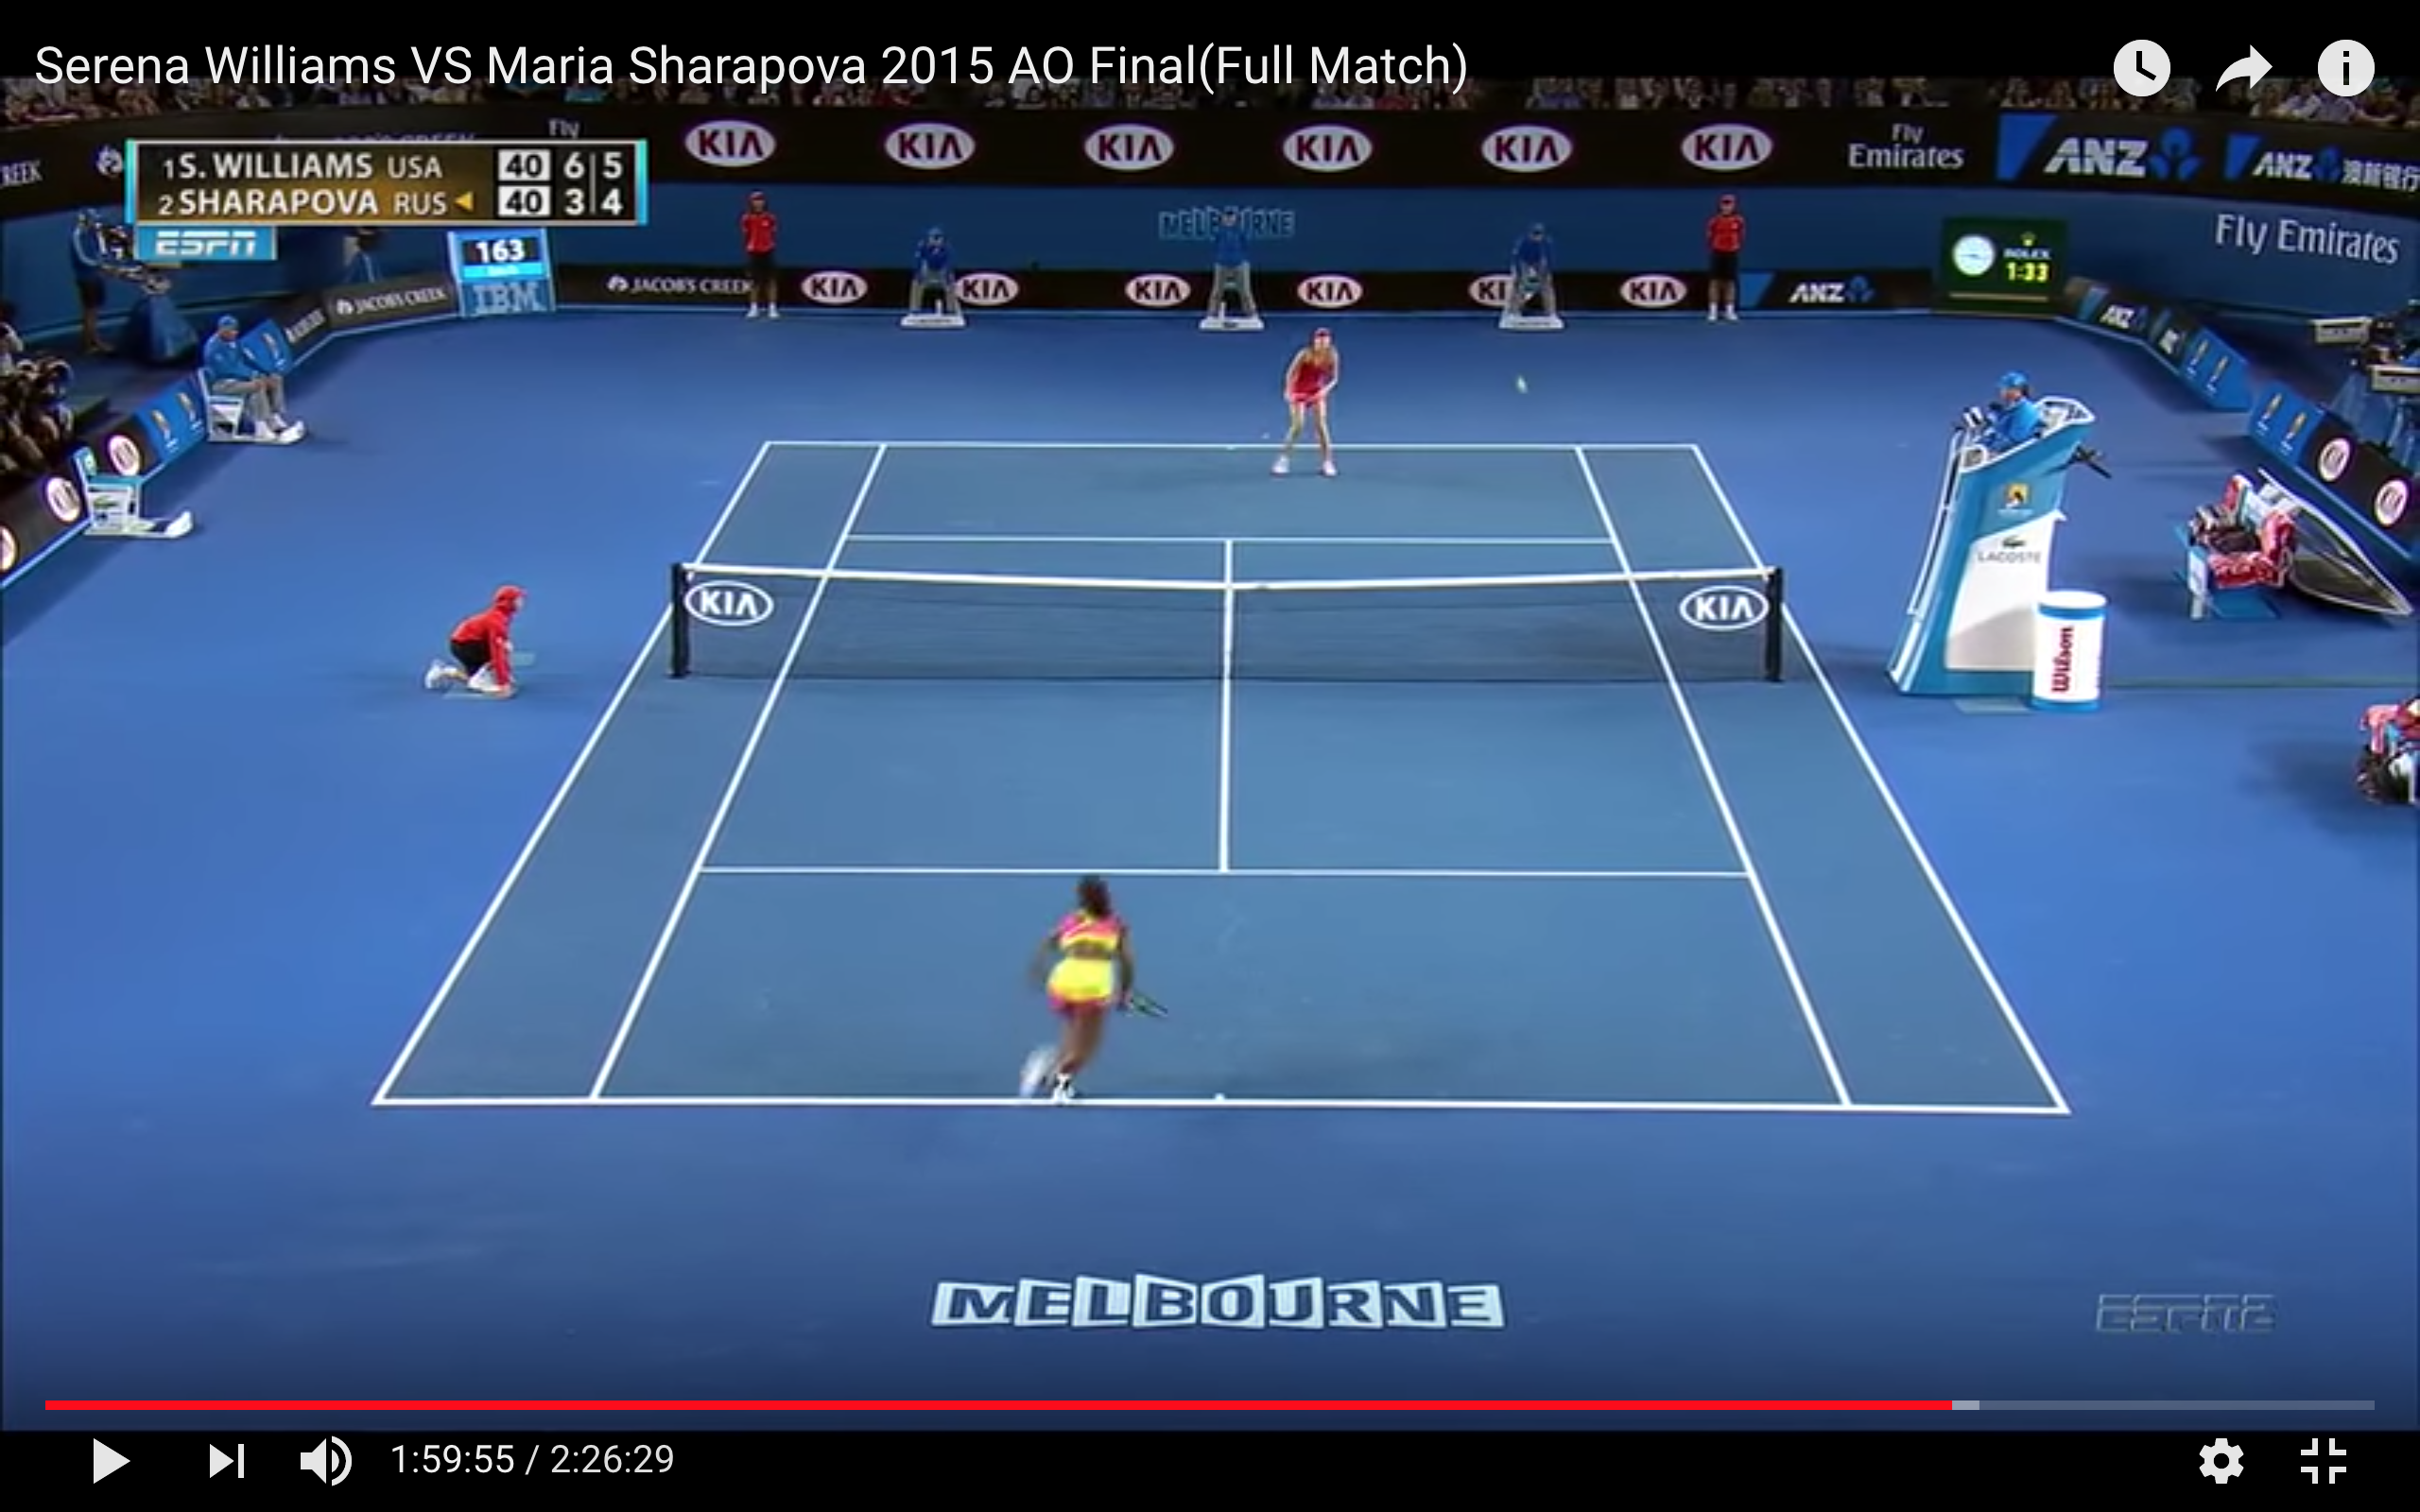tennis ball: (1508, 375, 1537, 399)
tennis player: (1012, 868, 1151, 1101), (1271, 318, 1347, 484)
